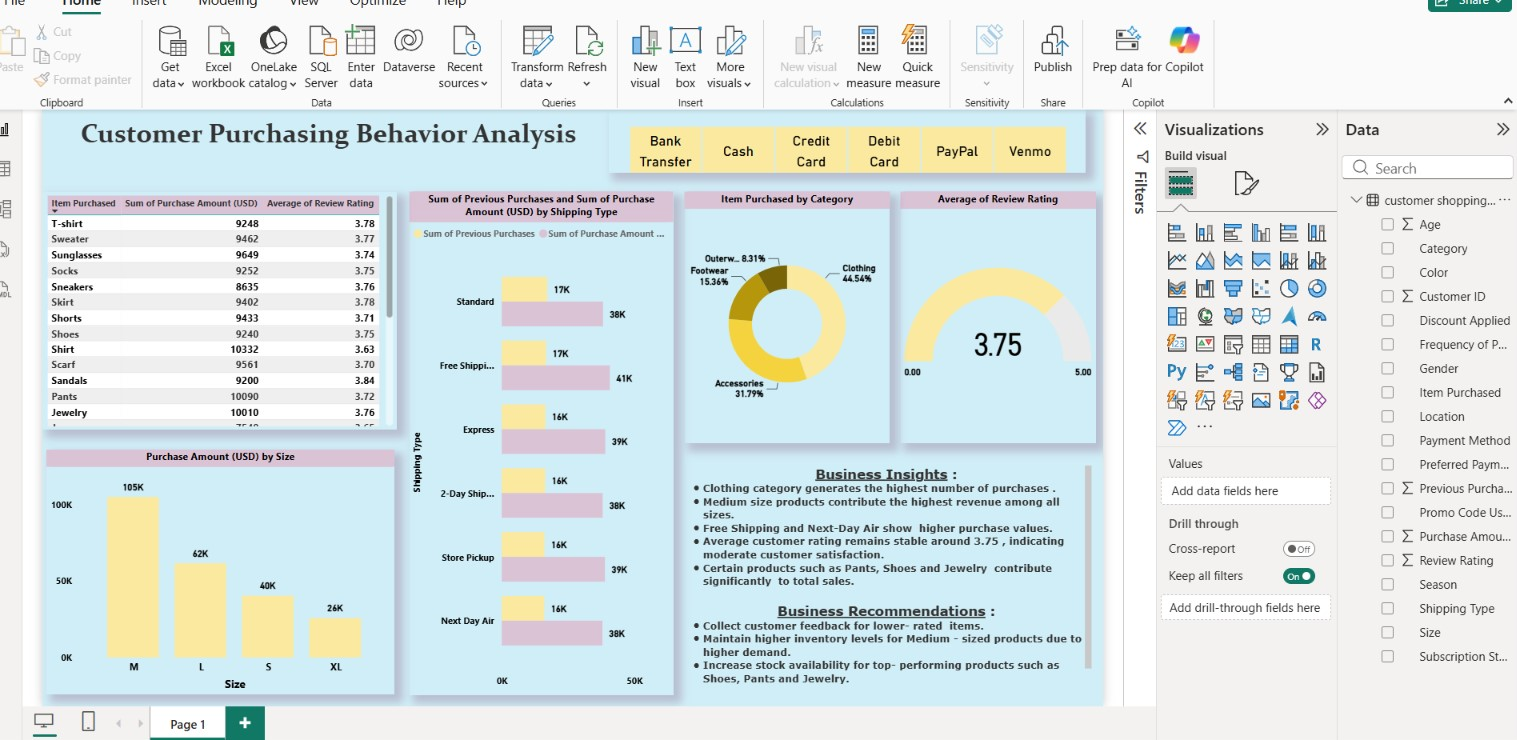

The page's visual inventory and layout, read from the dashboard file:
{"tool":"powerbi","page":{"name":"Page 1","canvas":[1280,720],"ordinal":0},"visuals":[{"type":"textbox","box":[40.7,4.9,661.7,71.6],"z":0},{"type":"slicer","fields":{"Values":["customer shopping-pbi.Payment Method"]},"box":[682.4,0,575.8,76.3],"z":1000},{"type":"gauge","fields":{"Y":["Avg(customer shopping-pbi.Review Rating)"]},"box":[1034.6,98.8,235.8,303.7],"z":2000},{"type":"clusteredBarChart","fields":{"Category":["customer shopping-pbi.Shipping Type"],"Y":["Sum(customer shopping-pbi.Previous Purchases)","Sum(customer shopping-pbi.Purchase Amount (USD))"]},"box":[442.8,98.9,318.5,606.8],"z":3000},{"type":"clusteredColumnChart","title":"Purchase Amount (USD) by Size","fields":{"Category":["customer shopping-pbi.Size"],"Y":["Sum(customer shopping-pbi.Purchase Amount (USD))"]},"box":[4.8,410.2,419.8,295.6],"z":4000},{"type":"tableEx","fields":{"Values":["customer shopping-pbi.Item Purchased","Sum(customer shopping-pbi.Purchase Amount (USD))","Avg(customer shopping-pbi.Review Rating)"]},"box":[0,98.9,428.3,287.1],"z":5000},{"type":"donutChart","title":" Item Purchased by Category","fields":{"Y":["CountNonNull(customer shopping-pbi.Item Purchased)"],"Category":["customer shopping-pbi.Category"]},"box":[774.1,98.8,248.1,303.7],"z":6000},{"type":"textbox","box":[774.1,424.7,496.3,281.5],"z":7000}]}

Visuals, with their boxes on the page's 1280x720 design canvas (x1, y1, x2, y2). These are canvas units, not pixel positions in the 1517x740 screenshot, which may show the page scaled, cropped or inside an application window:
textbox: detection(41, 5, 702, 76)
slicer - customer shopping-pbi.Payment Method: detection(682, 0, 1258, 76)
gauge - Avg(customer shopping-pbi.Review Rating): detection(1035, 99, 1270, 402)
clusteredBarChart - customer shopping-pbi.Shipping Type x Sum(customer shopping-pbi.Previous Purchases): detection(443, 99, 761, 706)
"Purchase Amount (USD) by Size" clusteredColumnChart: detection(5, 410, 425, 706)
tableEx - customer shopping-pbi.Item Purchased x Sum(customer shopping-pbi.Purchase Amount (USD)): detection(0, 99, 428, 386)
" Item Purchased by Category" donutChart: detection(774, 99, 1022, 402)
textbox: detection(774, 425, 1270, 706)
